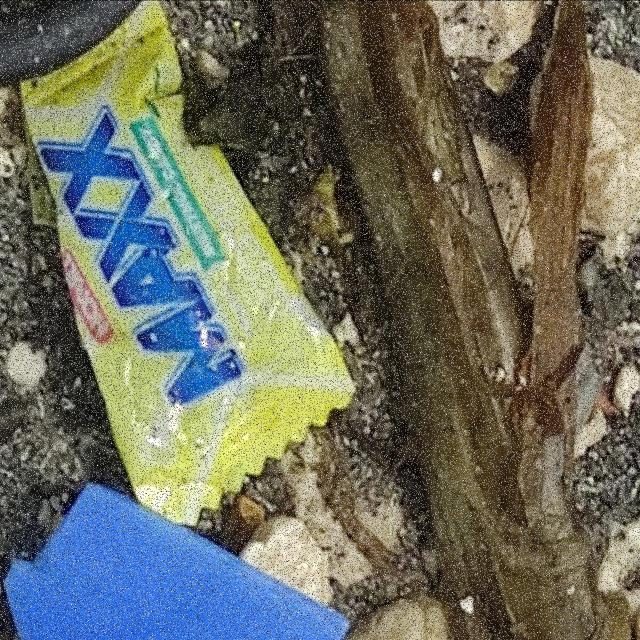plastic_waste: (18, 1, 361, 528)
